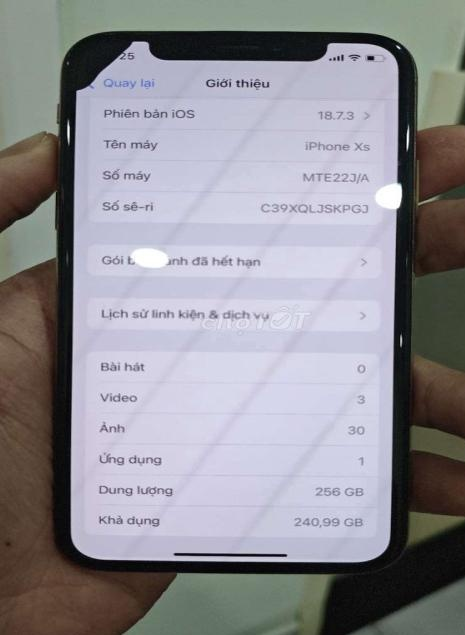screen_defect: (49, 4, 144, 104)
